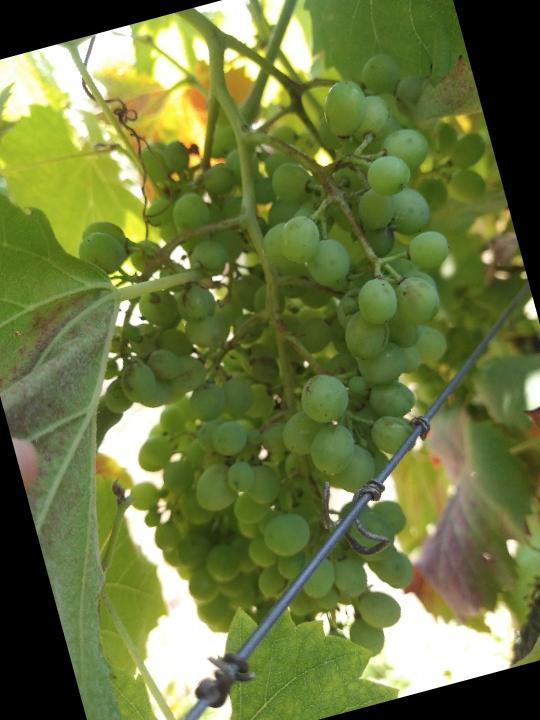grape: (35, 31, 540, 708)
